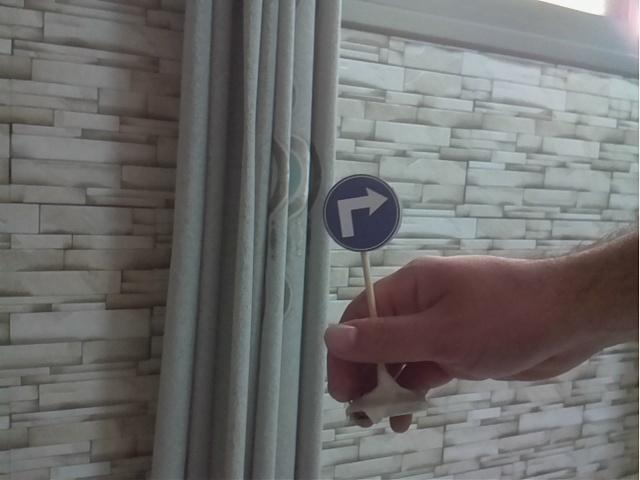turn: (320, 173, 405, 253)
